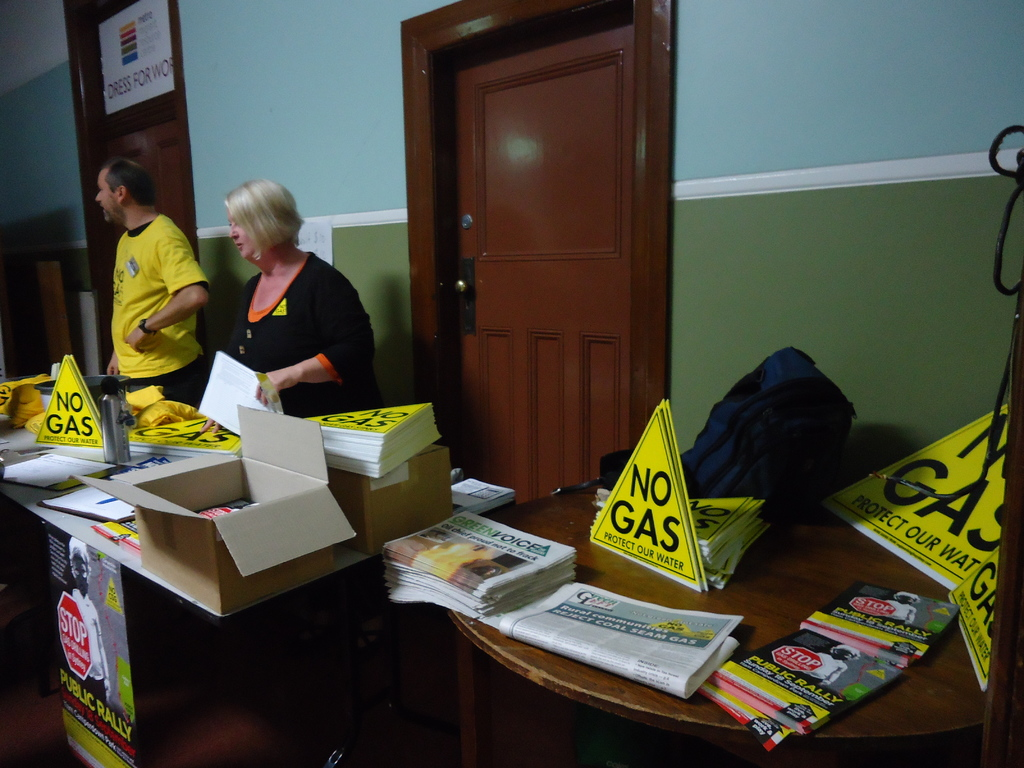Book: (722, 627, 902, 737)
